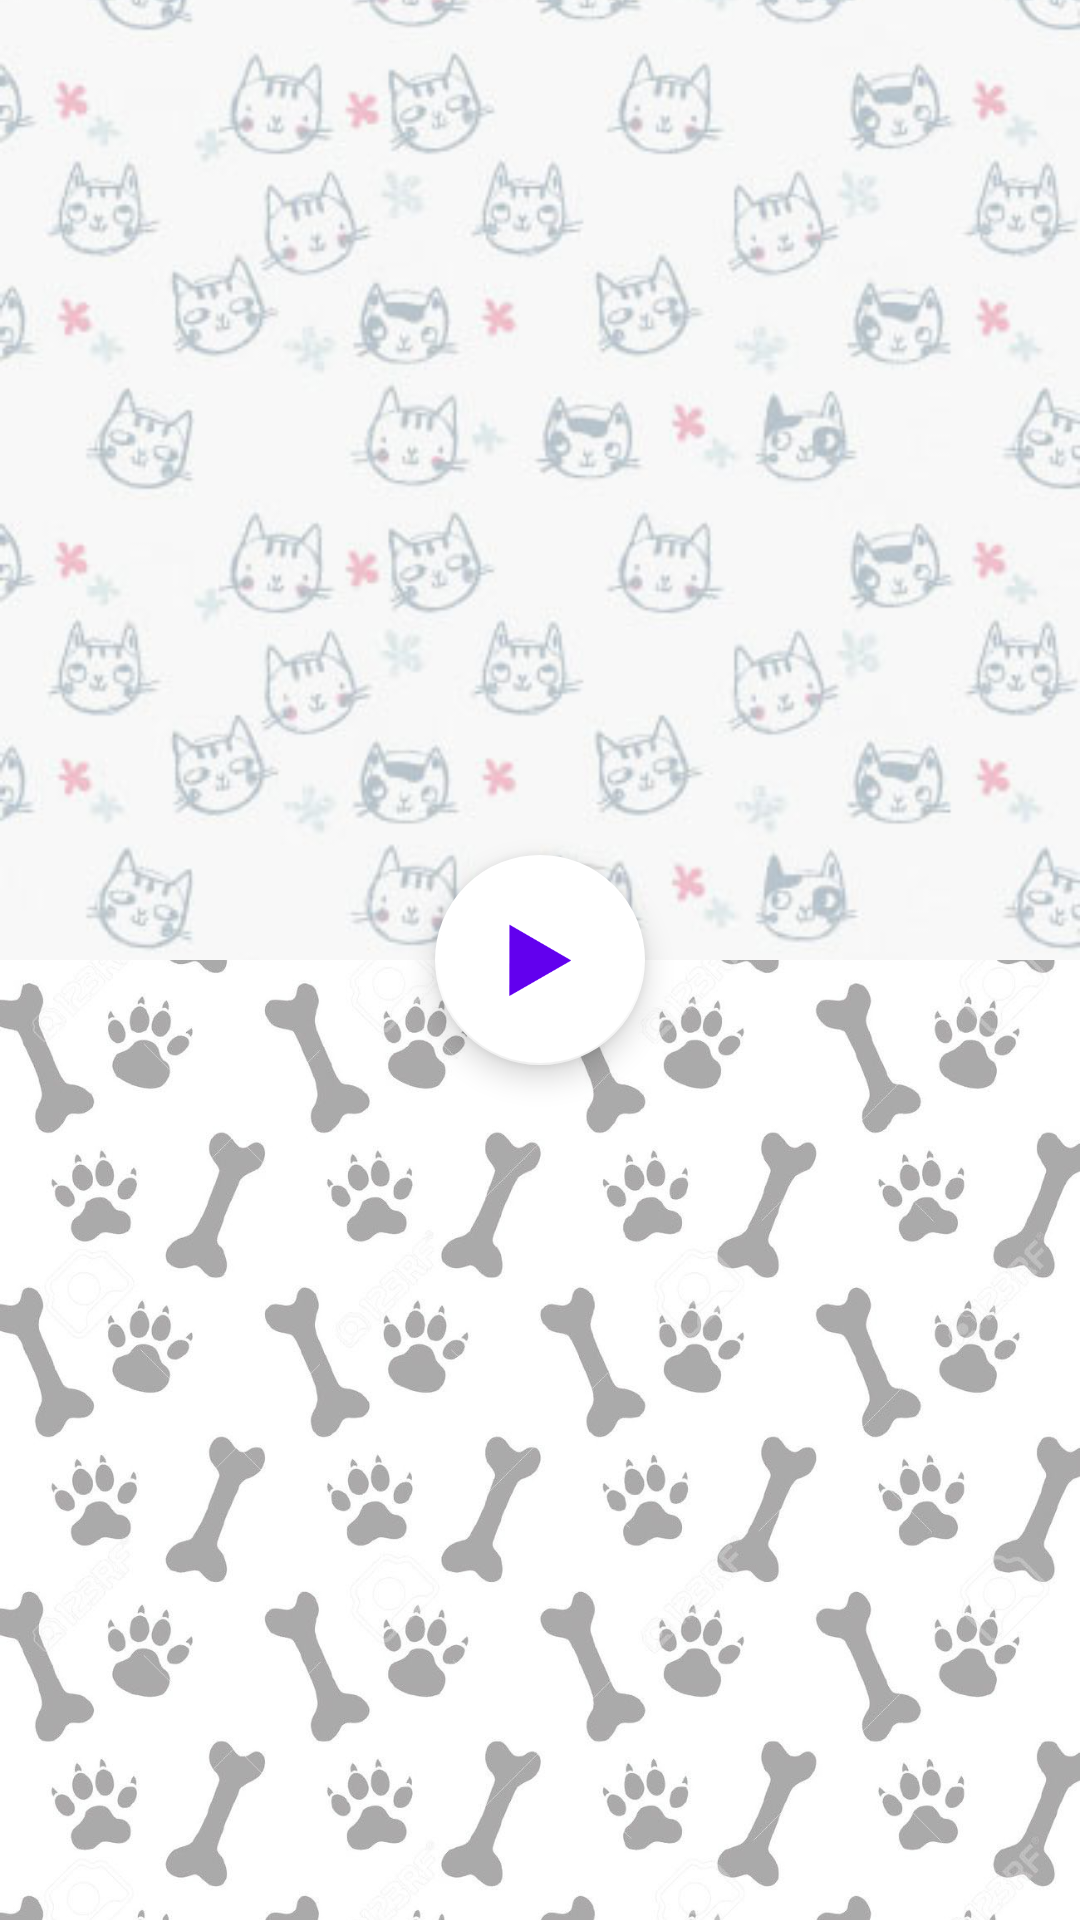

Named icons in this screenshot (1080x1920) and their bounding boxes, {"x1": x1, "y1": y1, "x2": x2, "y2": y2}:
play: {"x1": 435, "y1": 855, "x2": 645, "y2": 1065}
